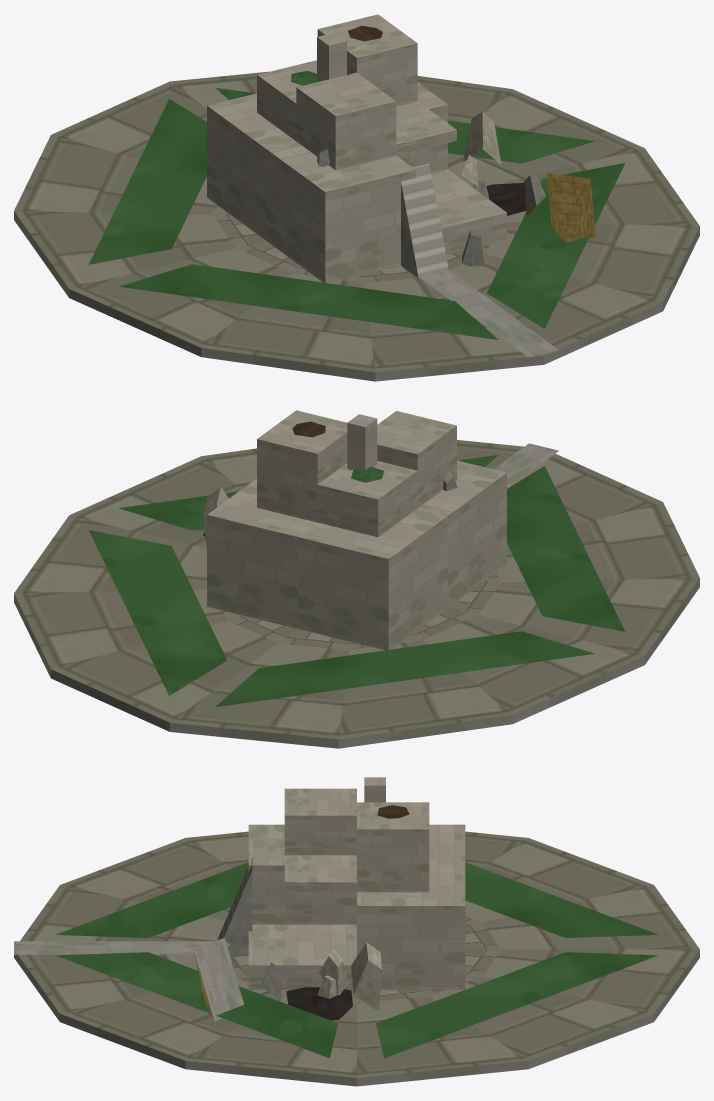
File: pyramid_small_destroyed_lod2.glb
The picture shows the model from 3 angles, top to bottom: view 1: azimuth 30°, elevation 25°; view 2: azimuth 150°, elevation 25°; view 3: azimuth 270°, elevation 25°; orthographic projection. The views are drawn at different scales.
Visible parts, largest first — view 1: pyramid_small_destroyed_lod2; view 2: pyramid_small_destroyed_lod2; view 3: pyramid_small_destroyed_lod2.
Boxes of the visible parts, x1,y1,x2,y2 form: pyramid_small_destroyed_lod2: (14, 14, 699, 381); pyramid_small_destroyed_lod2: (14, 410, 699, 748); pyramid_small_destroyed_lod2: (14, 777, 699, 1086).
Size of the model in its own units: 1.7 by 0.5218 by 1.91.
Materials: 1 (1 with a texture image).
